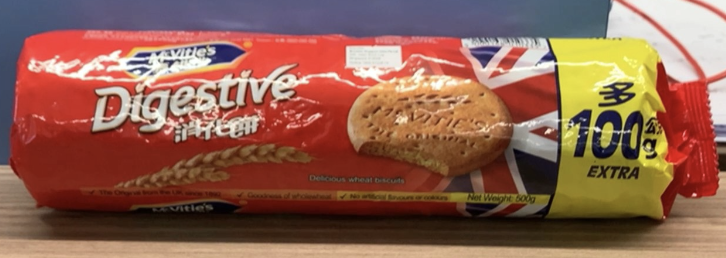cookies_500g-599g: (48, 44, 664, 201)
